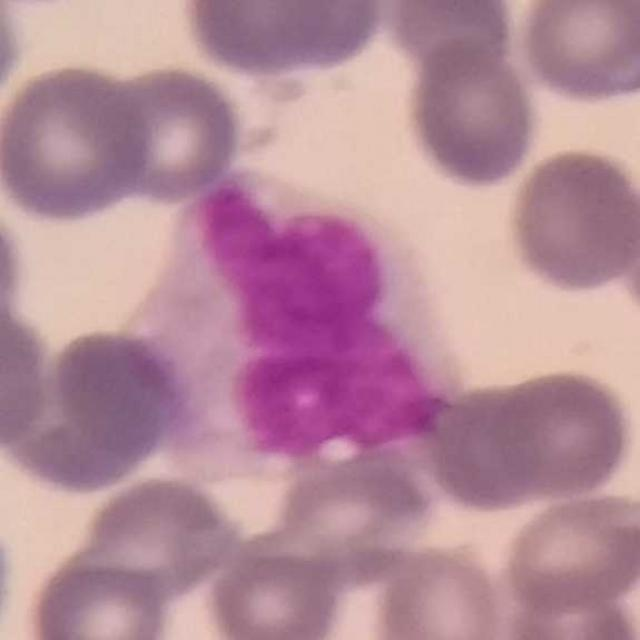Monocyte: (124, 169, 472, 481)
RBC: (0, 323, 196, 495), (1, 58, 154, 227), (478, 364, 638, 506), (400, 34, 542, 192), (71, 471, 243, 601), (94, 60, 247, 206), (247, 536, 453, 640), (502, 143, 640, 297), (496, 486, 640, 614), (270, 451, 436, 561), (175, 0, 383, 79), (368, 538, 509, 640), (203, 543, 347, 640), (515, 0, 639, 108), (21, 554, 176, 640), (379, 0, 522, 81), (0, 292, 57, 455), (497, 575, 639, 640), (0, 198, 29, 354), (0, 0, 26, 118), (0, 503, 20, 640)
